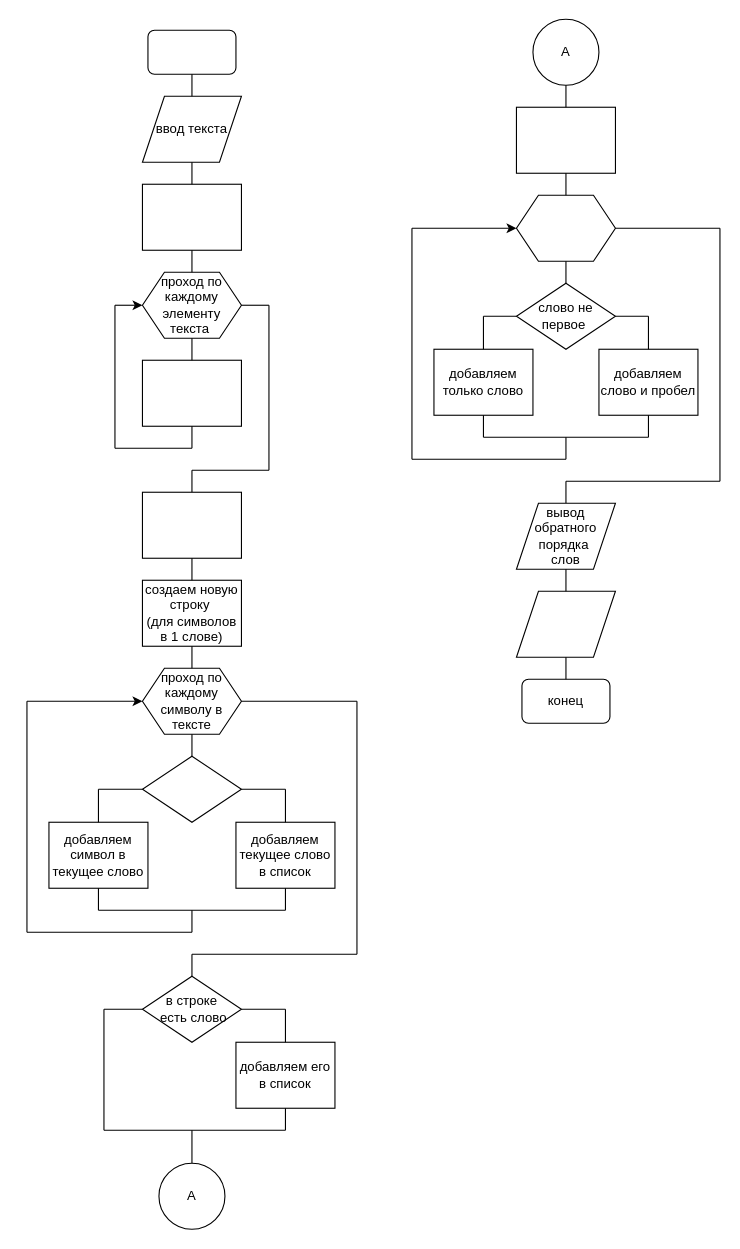
Some shapes in this 740 by 1249 pixel diagram are drawn without their labels. The centre of each missing label's shape, as x and y in pixels:
вывод отзеркален- ной строки: the point at 565,623
добавляем элемент в созданную строку: the point at 191,392
начало: the point at 191,51
проход по списку в обратном порядке: the point at 565,227
символ явл. пробелом: the point at 191,788
создаем новую строку: the point at 565,139
создаем новый список (для слов из строки): the point at 191,524
создаем строку для отзеркаленной версии: the point at 191,216
